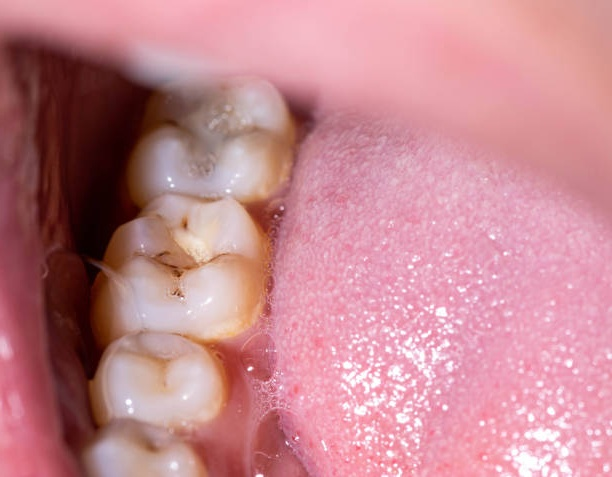Caries: (140, 208, 220, 306)
